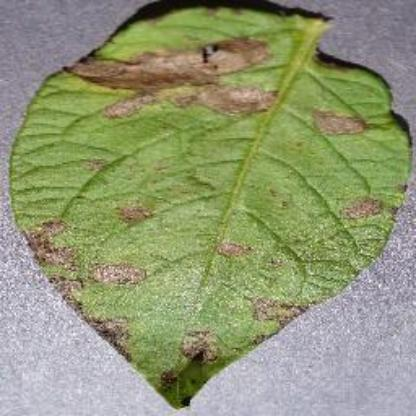Early-Blight: (11, 0, 415, 406)
